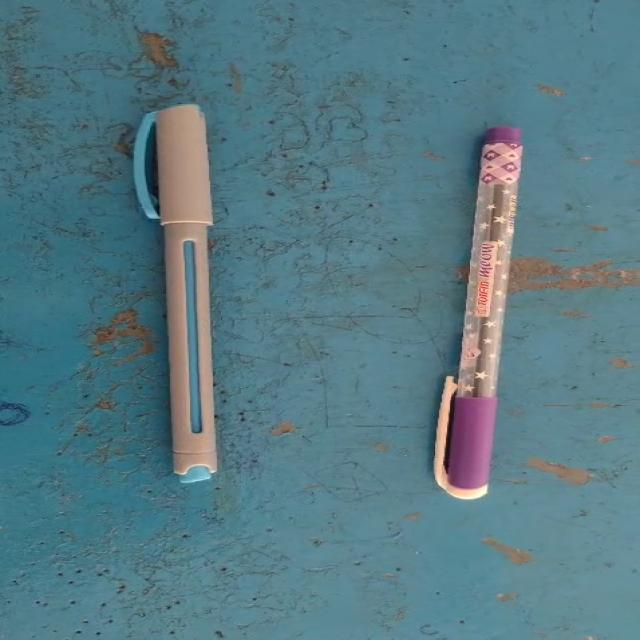pen: (116, 76, 291, 509), (404, 97, 574, 516)
